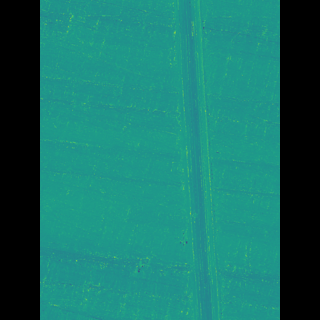Loch: (165, 0, 207, 320)
